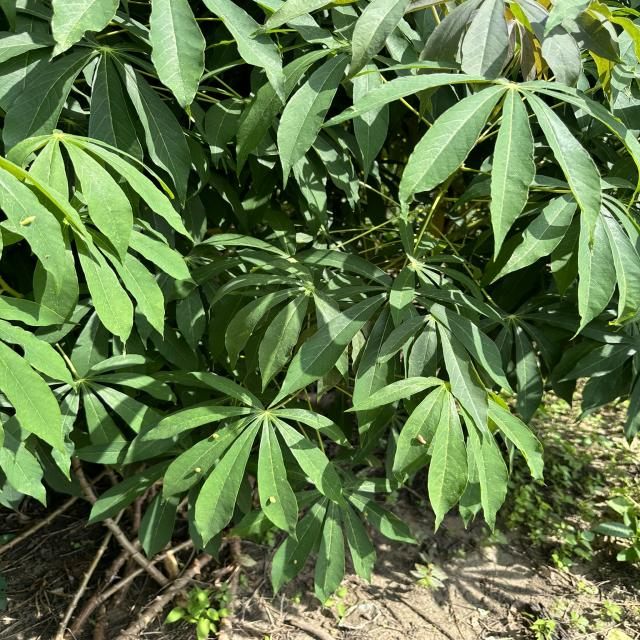Mosca: (410, 428, 437, 464), (183, 460, 213, 491), (290, 553, 311, 577), (201, 426, 222, 450), (260, 490, 282, 509), (20, 207, 33, 234), (39, 248, 53, 263)
